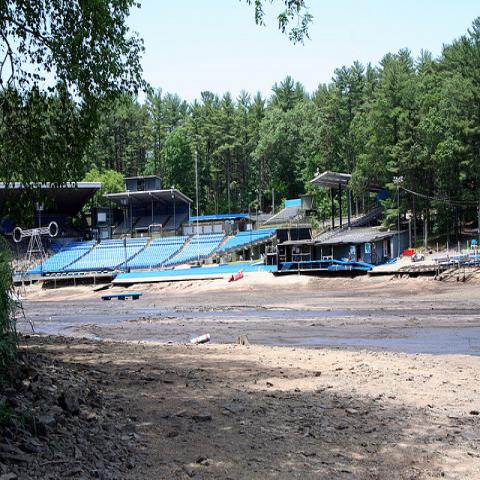car: (411, 252, 426, 262), (468, 238, 478, 248)
